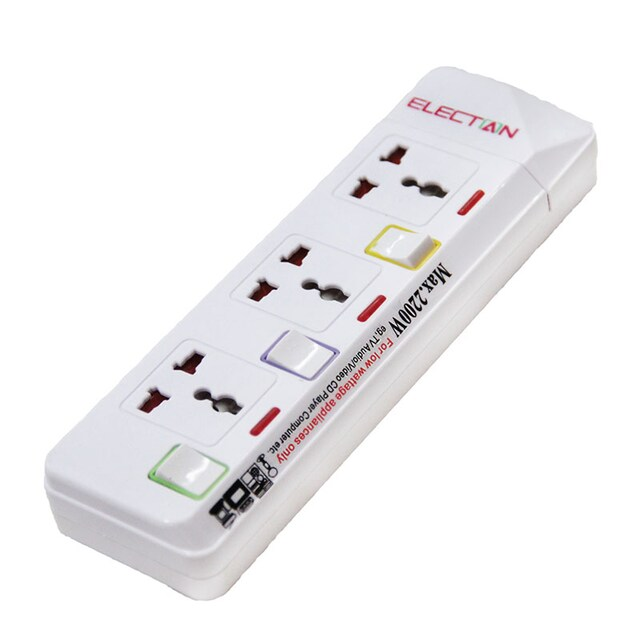Three_eye_plug: (34, 53, 610, 608)
